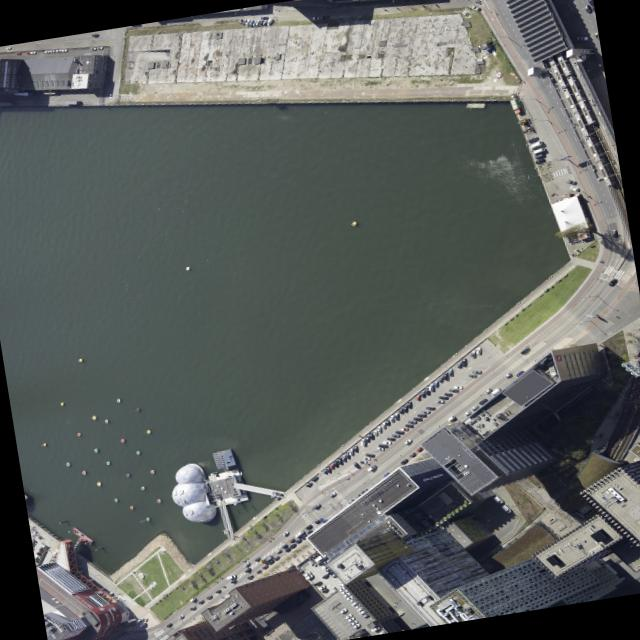large-vehicle: (540, 44, 616, 188), (536, 12, 597, 126), (258, 555, 273, 565)
small-vehicle: (528, 141, 543, 150), (531, 147, 545, 156), (501, 504, 512, 514), (492, 496, 504, 505), (526, 136, 538, 144), (294, 530, 304, 539), (489, 388, 500, 396), (519, 347, 530, 355), (607, 278, 616, 287), (306, 560, 316, 568), (565, 179, 576, 186), (583, 5, 592, 13), (403, 438, 412, 446), (515, 370, 524, 378), (369, 626, 381, 632), (330, 586, 338, 595), (534, 153, 544, 160), (366, 465, 376, 472), (136, 623, 147, 629), (265, 18, 273, 26), (352, 462, 360, 470), (483, 388, 492, 395), (478, 398, 487, 405), (469, 405, 478, 412), (446, 415, 455, 422), (311, 503, 320, 510), (302, 571, 311, 578), (304, 574, 313, 581), (534, 158, 544, 164), (569, 186, 579, 192), (225, 575, 236, 580), (344, 614, 353, 620), (339, 608, 348, 614), (320, 564, 329, 570), (313, 581, 322, 587), (349, 620, 358, 626), (352, 623, 361, 629), (244, 19, 250, 27), (576, 37, 588, 41), (470, 351, 476, 359), (359, 438, 365, 446), (503, 373, 511, 379), (442, 373, 448, 381), (423, 387, 429, 395), (355, 607, 363, 613), (353, 604, 361, 610), (310, 476, 318, 482), (288, 543, 296, 549), (399, 459, 407, 465), (360, 489, 368, 495), (328, 492, 336, 498), (350, 601, 358, 607), (319, 518, 327, 524), (281, 531, 289, 537), (347, 617, 355, 623), (346, 499, 354, 505), (317, 585, 325, 591), (330, 572, 338, 578), (340, 589, 348, 595), (342, 592, 350, 598), (345, 595, 353, 601), (242, 562, 250, 568), (243, 567, 251, 573), (336, 457, 342, 465), (135, 618, 143, 624), (188, 597, 196, 603), (287, 565, 295, 571), (611, 229, 616, 238), (453, 385, 462, 390), (248, 20, 254, 27), (388, 415, 394, 422), (475, 348, 481, 355), (463, 411, 470, 417), (427, 384, 433, 391), (382, 472, 389, 478), (305, 482, 312, 488), (300, 534, 307, 540), (321, 588, 328, 594), (339, 581, 345, 588), (197, 599, 204, 605), (326, 570, 334, 575), (438, 396, 448, 400), (461, 359, 466, 367), (434, 400, 444, 404), (425, 407, 435, 411), (266, 560, 274, 565), (358, 610, 366, 615), (272, 556, 280, 561), (253, 557, 261, 562), (348, 448, 353, 456), (375, 447, 385, 451), (304, 525, 312, 530), (364, 454, 374, 458), (361, 613, 369, 618), (321, 574, 329, 579), (337, 587, 345, 592), (390, 434, 399, 438), (241, 20, 247, 26), (261, 20, 267, 26), (382, 441, 391, 445), (448, 389, 457, 393), (378, 444, 387, 448), (420, 410, 429, 414), (404, 424, 413, 428), (394, 431, 403, 435), (407, 421, 416, 425), (409, 452, 415, 458), (177, 614, 183, 620), (39, 543, 46, 548), (384, 419, 389, 426), (376, 426, 381, 433), (433, 381, 438, 388), (419, 391, 424, 398), (393, 413, 398, 420), (274, 549, 281, 554), (325, 466, 330, 473), (332, 460, 337, 467), (280, 544, 287, 549), (345, 452, 350, 459), (294, 539, 301, 544), (415, 447, 422, 452), (324, 567, 331, 572), (354, 494, 361, 499), (165, 623, 172, 628), (319, 561, 326, 566), (188, 606, 195, 611), (205, 595, 212, 600), (214, 589, 221, 594), (246, 575, 253, 580), (320, 16, 328, 20), (386, 437, 394, 441), (468, 374, 476, 378), (407, 401, 411, 409), (341, 455, 345, 463), (255, 20, 260, 26), (258, 20, 263, 26), (251, 21, 256, 27), (471, 371, 481, 374), (415, 395, 420, 401), (412, 418, 422, 421), (398, 408, 403, 414), (35, 552, 41, 557), (34, 554, 40, 559), (284, 548, 290, 553), (306, 530, 312, 535), (261, 565, 267, 570), (337, 584, 342, 590), (381, 422, 385, 429), (368, 433, 372, 440), (448, 369, 452, 376), (444, 393, 451, 397), (402, 406, 406, 413), (313, 520, 320, 524), (275, 493, 282, 497), (353, 446, 357, 453), (363, 457, 370, 461), (230, 580, 237, 584), (417, 414, 426, 417), (372, 431, 377, 436), (438, 377, 442, 383), (365, 436, 369, 442), (358, 461, 366, 464), (288, 539, 294, 543), (255, 570, 261, 574), (29, 51, 36, 54), (60, 49, 67, 52), (312, 17, 319, 20), (96, 47, 103, 50), (91, 34, 98, 37), (89, 47, 96, 50), (400, 428, 407, 431), (31, 539, 36, 543), (38, 548, 43, 552), (40, 546, 45, 550), (457, 363, 461, 368), (34, 557, 39, 561), (329, 464, 333, 469), (37, 550, 42, 554), (5, 47, 11, 50), (43, 50, 49, 53), (55, 49, 61, 52), (323, 468, 326, 474), (260, 17, 268, 19), (49, 50, 54, 53), (15, 52, 20, 55), (24, 52, 30, 54)
